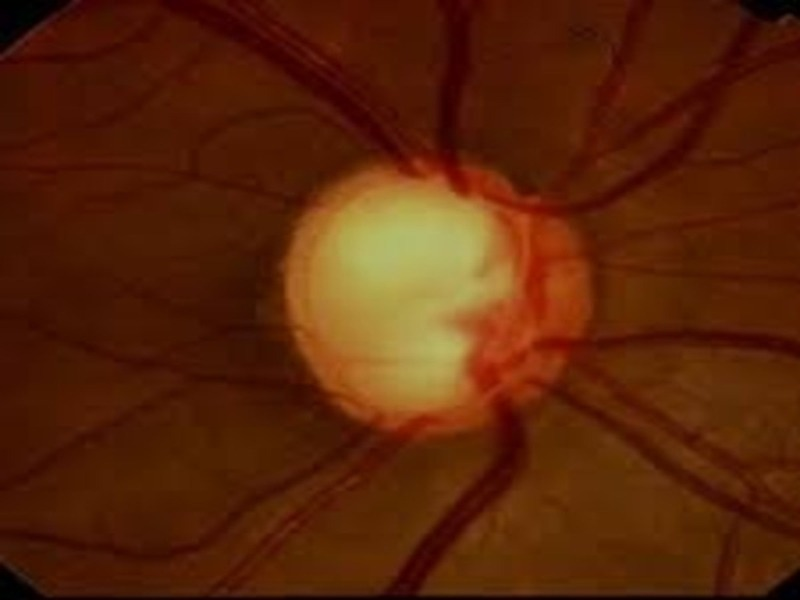Optic Cup: (316, 189, 502, 404)
Optic Disc: (282, 157, 595, 433)
